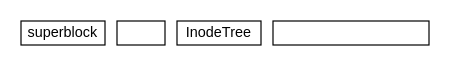
The diagram is 450 pixels wide and 66 high, and some of its shapes have lost their labels. Here are the shapes that lost their labels. From the top down, the centre of each, then its label:
At point (140, 32): "FCB".
At point (350, 32): "DiskIndexNodeCluster".
